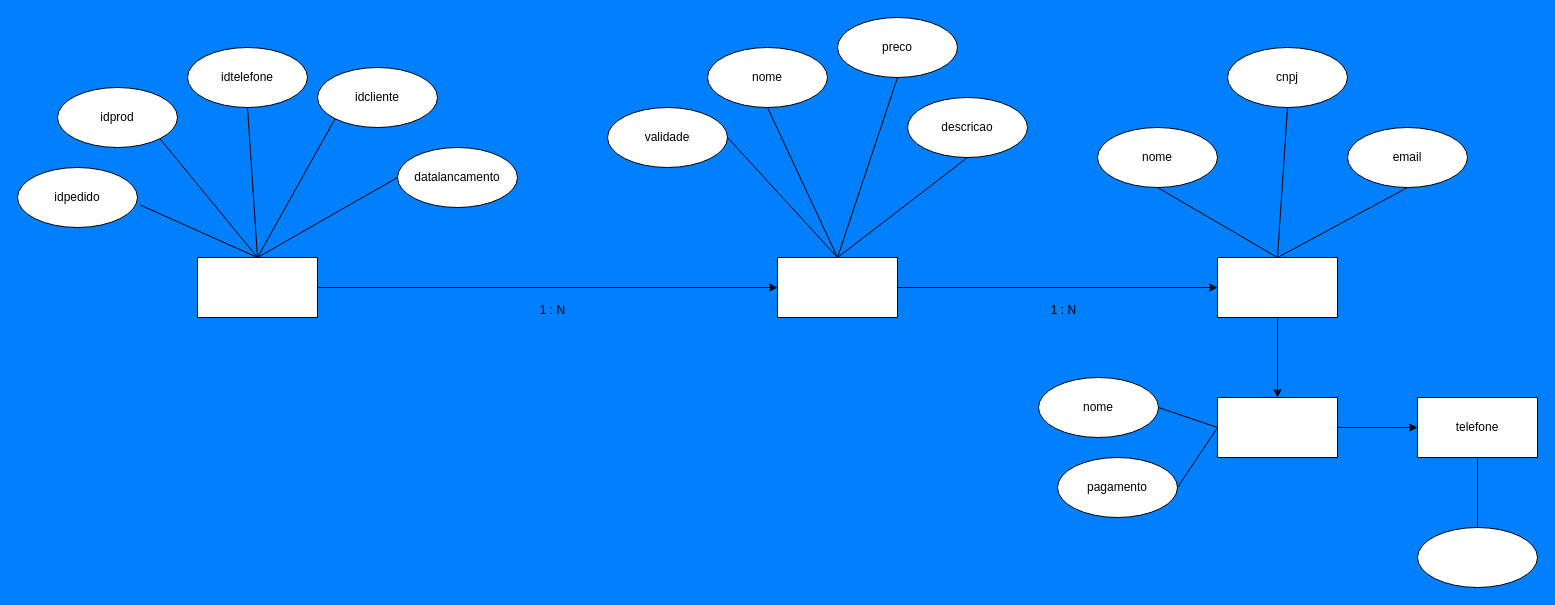
The diagram is 1555 pixels wide and 605 high, and some of its shapes have lost their labels. The shapes that lost their labels are listed below. From the top down, each one's centre as x and y in pixels, then its label:
[257,287]: pedidos
[837,287]: produtos
[1277,287]: fornecedores
[1277,427]: clientes
[1477,557]: numero
